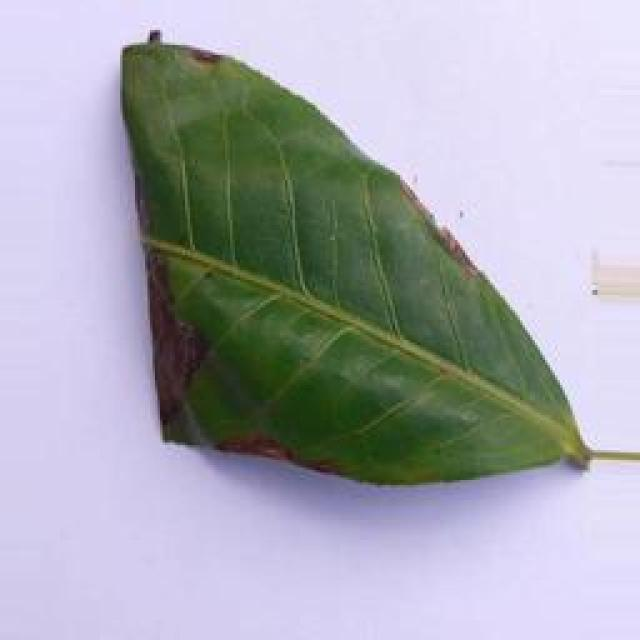Brown Blight: (102, 20, 604, 484)
